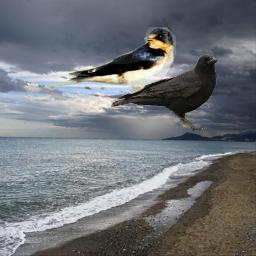Crow: (111, 54, 217, 131)
Swallow: (46, 27, 176, 94)
